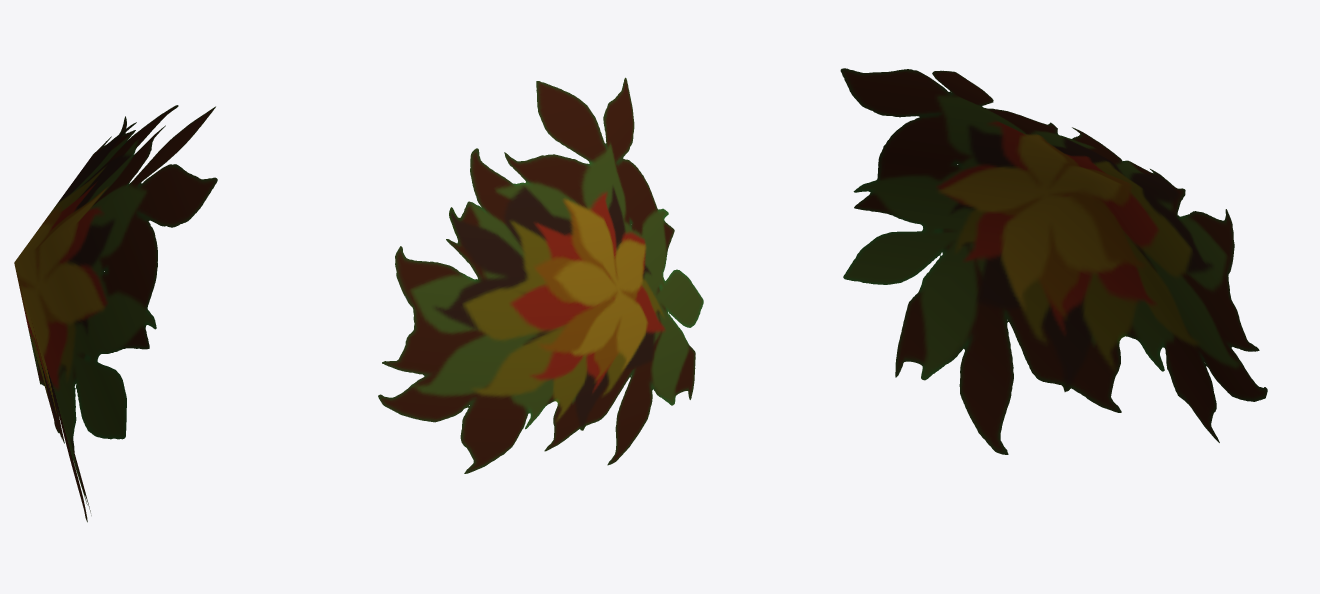
The picture shows the model from 3 angles, left to right: view 1: azimuth 30°, elevation 25°; view 2: azimuth 150°, elevation 25°; view 3: azimuth 270°, elevation 25°; orthographic projection. The views are drawn at different scales.
Visible parts, largest first — view 1: Plane1062; view 2: Plane1062; view 3: Plane1062.
Part boxes in pixels (left/top/right/bottom): Plane1062: left=14, top=105, right=217, bottom=522; Plane1062: left=378, top=77, right=703, bottom=473; Plane1062: left=840, top=68, right=1267, bottom=454.
Size of the model in its own units: 0.2611 by 0.4021 by 0.3381.
